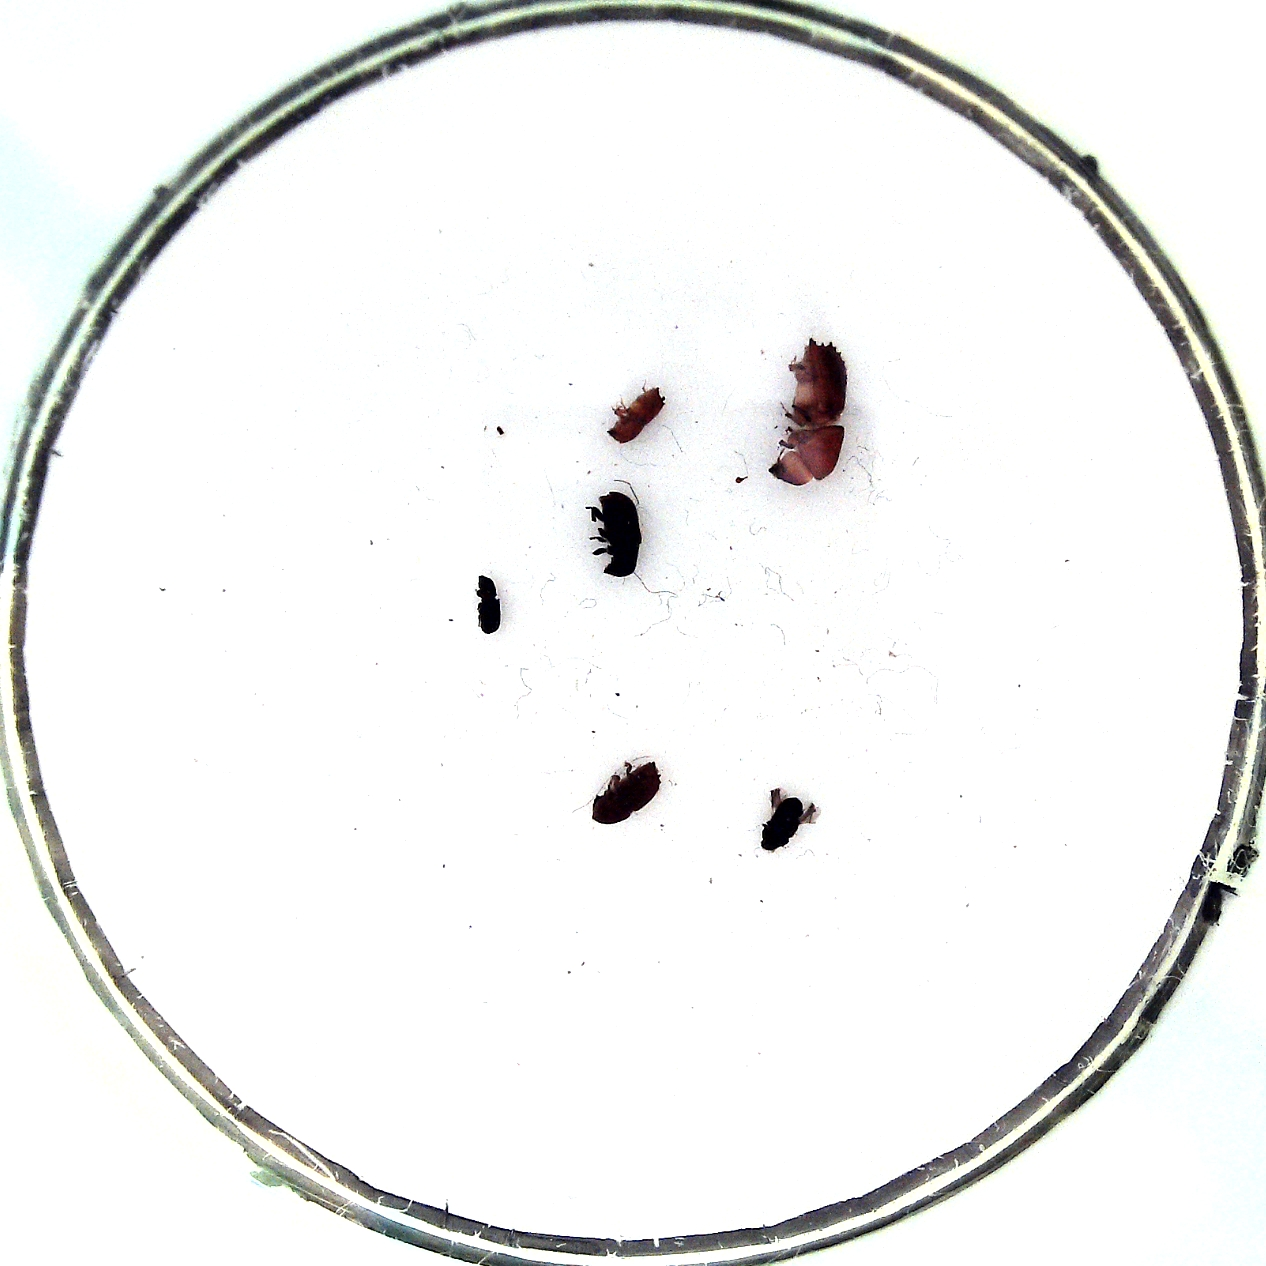Boerner: (769, 339, 847, 485)
acuminatus: (761, 796, 803, 849), (476, 574, 500, 634)
armandi: (599, 492, 643, 577)
coleoptera: (607, 387, 665, 443)
linnaeus: (591, 763, 662, 825)
